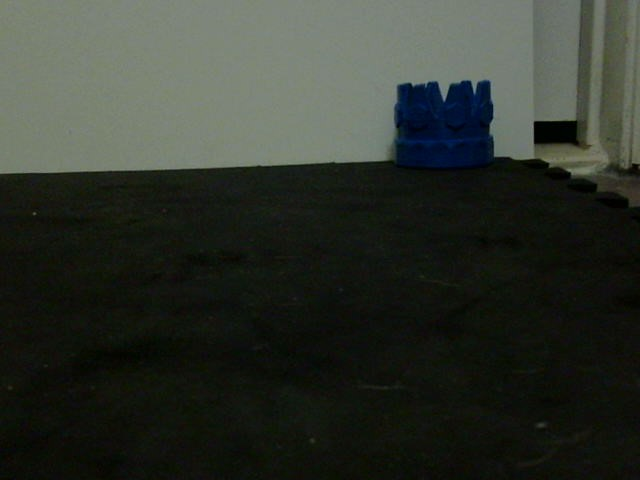crown: (392, 79, 498, 170)
